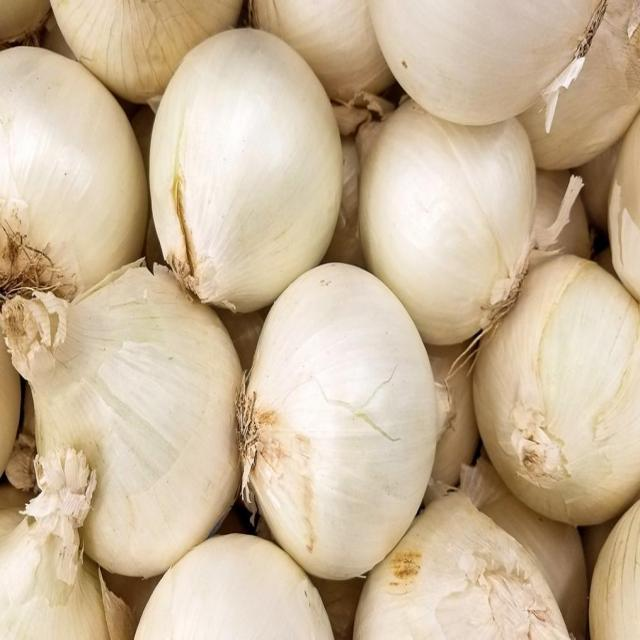Onion: (2, 255, 245, 580), (234, 263, 457, 581), (358, 100, 582, 384), (151, 28, 345, 312), (474, 255, 640, 522), (0, 47, 146, 325), (353, 491, 571, 640), (369, 0, 608, 135), (2, 442, 133, 640), (462, 453, 588, 640), (461, 453, 587, 640), (134, 532, 336, 640), (517, 0, 640, 169), (49, 0, 245, 103), (247, 0, 394, 101), (425, 341, 478, 502), (588, 497, 640, 639), (530, 174, 596, 270), (608, 109, 640, 303), (0, 303, 23, 480), (6, 380, 41, 490), (220, 308, 268, 374), (340, 134, 360, 263), (0, 0, 49, 41)
